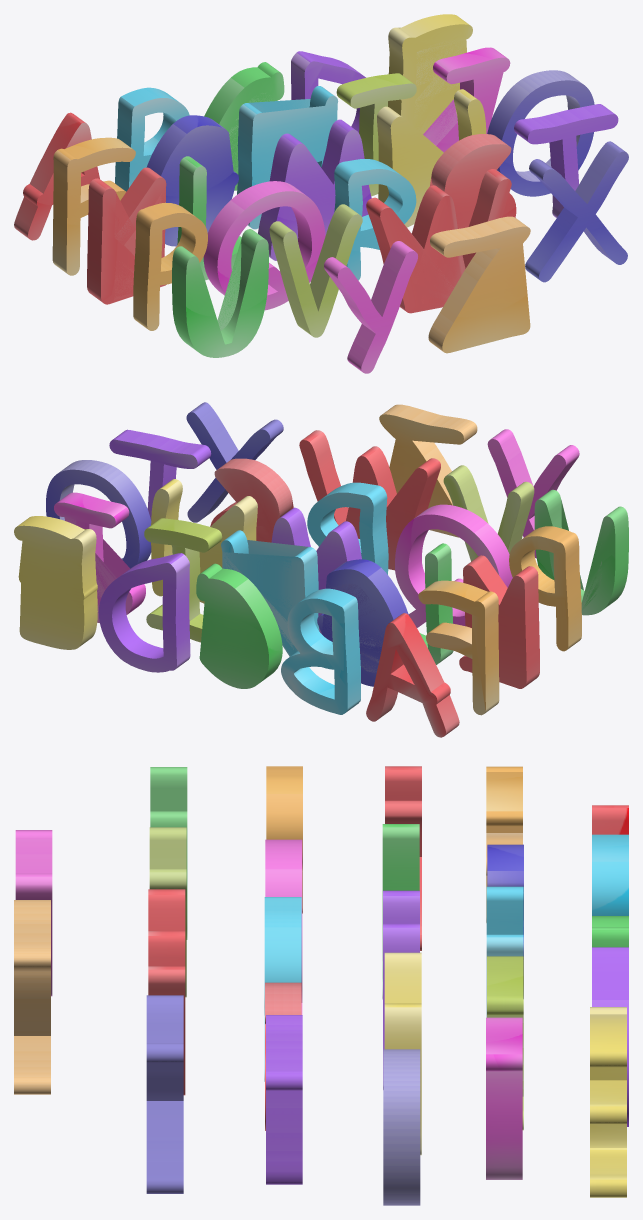
Rendered from Alphabets.fbx.
3 renders of one model, top to bottom at view 1: azimuth 30°, elevation 25°; view 2: azimuth 150°, elevation 25°; view 3: azimuth 270°, elevation 25°, orthographic. The views are drawn at different scales.
Visible parts, largest first — view 1: Z, U, W, X, K, Q, H, E, V, M, G, Y (+14 smaller); view 2: E, C, B, D, W, A, K, F, H, Q, U, Z (+14 smaller); view 3: X, Z, E, T, J, O, W, N, R, F, B, Y (+14 smaller).
Boxes of the visible parts, x1=… form: Z: x1=428, y1=216, x2=530, y2=353; U: x1=172, y1=229, x2=268, y2=357; W: x1=366, y1=169, x2=511, y2=313; X: x1=525, y1=141, x2=628, y2=282; K: x1=87, y1=167, x2=166, y2=304; Q: x1=203, y1=181, x2=325, y2=310; H: x1=237, y1=86, x2=338, y2=229; E: x1=388, y1=14, x2=472, y2=134; V: x1=269, y1=204, x2=362, y2=337; M: x1=258, y1=119, x2=371, y2=260; G: x1=146, y1=115, x2=238, y2=246; Y: x1=324, y1=241, x2=417, y2=373; E: x1=14, y1=516, x2=97, y2=649; C: x1=196, y1=563, x2=282, y2=688; B: x1=281, y1=588, x2=360, y2=714; D: x1=98, y1=553, x2=190, y2=672; W: x1=299, y1=430, x2=440, y2=570; A: x1=366, y1=613, x2=459, y2=737; K: x1=459, y1=555, x2=539, y2=688; F: x1=418, y1=580, x2=499, y2=715; H: x1=221, y1=530, x2=319, y2=656; Q: x1=395, y1=504, x2=512, y2=627; U: x1=534, y1=489, x2=628, y2=615; Z: x1=379, y1=404, x2=477, y2=537; X: x1=146, y1=995, x2=183, y2=1193; Z: x1=14, y1=900, x2=50, y2=1094; E: x1=590, y1=1007, x2=626, y2=1197; T: x1=266, y1=1015, x2=302, y2=1184; J: x1=486, y1=1017, x2=522, y2=1179; O: x1=383, y1=1049, x2=420, y2=1205; W: x1=148, y1=889, x2=185, y2=1095; N: x1=384, y1=952, x2=421, y2=1155; R: x1=264, y1=897, x2=301, y2=1081; F: x1=486, y1=766, x2=522, y2=922; B: x1=592, y1=834, x2=628, y2=915; Y: x1=15, y1=830, x2=52, y2=996.
Size of the model in its own units: 51.76 by 14.31 by 41.64.
Materials: 26 (26 with a texture image).
